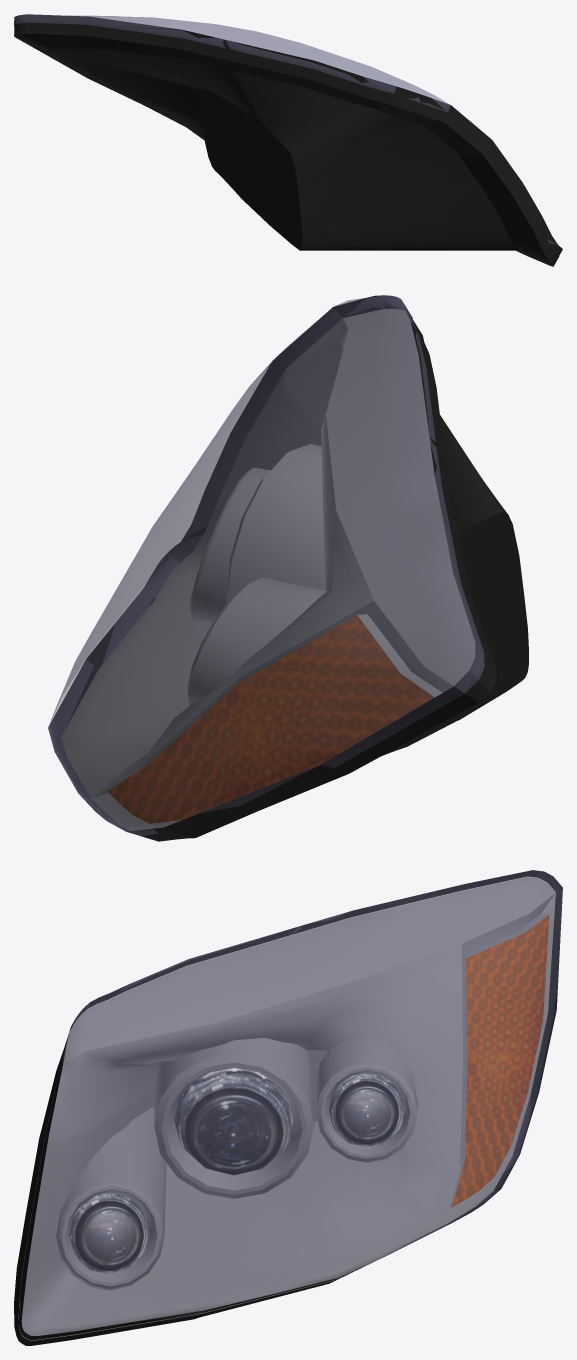
3 views of the same model, one above another, from view 1: azimuth 30°, elevation 25°; view 2: azimuth 150°, elevation 25°; view 3: azimuth 270°, elevation 25° (orthographic). The views are drawn at different scales.
Parts seen in each view (by area): view 1: SC30_061B_L_SC30_061B_L_7_D, SC30_061B_L_SC30_061B_L_6_DTaSI; view 2: SC30_061B_L_SC30_061B_L_6_DTaSI, SC30_061B_L_SC30_061B_L_2_DaS, SC30_061B_L_SC30_061B_L_7_D, SC30_061B_L_1_N_SC30_061B_L; view 3: SC30_061B_L_SC30_061B_L_6_DTaSI, SC30_061B_L_SC30_061B_L_2_DaS, SC30_061B_L_1_N_SC30_061B_L, SC30_061B_L_SC30_061B_L_7_D, SC30_061B_L_SC30_061B_L_4_N, SC30_061B_L_SC30_061B_L_5_N, SC30_061B_L_SC30_061B_L_3_N.
Boxes of the visible parts, x1,y1,x2,y2 form: SC30_061B_L_SC30_061B_L_7_D: (14,14,562,266); SC30_061B_L_SC30_061B_L_6_DTaSI: (14,14,556,244); SC30_061B_L_SC30_061B_L_6_DTaSI: (48,295,484,835); SC30_061B_L_SC30_061B_L_2_DaS: (61,308,475,830); SC30_061B_L_SC30_061B_L_7_D: (48,295,528,841); SC30_061B_L_1_N_SC30_061B_L: (108,615,434,823); SC30_061B_L_SC30_061B_L_6_DTaSI: (19,870,562,1335); SC30_061B_L_SC30_061B_L_2_DaS: (18,877,555,1340); SC30_061B_L_1_N_SC30_061B_L: (452,915,549,1207); SC30_061B_L_SC30_061B_L_7_D: (14,870,562,1345); SC30_061B_L_SC30_061B_L_4_N: (174,1068,294,1175); SC30_061B_L_SC30_061B_L_5_N: (69,1192,148,1274); SC30_061B_L_SC30_061B_L_3_N: (329,1073,404,1148).
Bounding box in the file's own units: 37.13 × 20.66 × 37.28.
